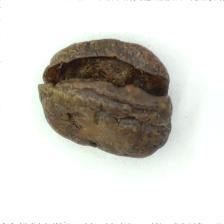NG: (40, 50, 174, 124)
